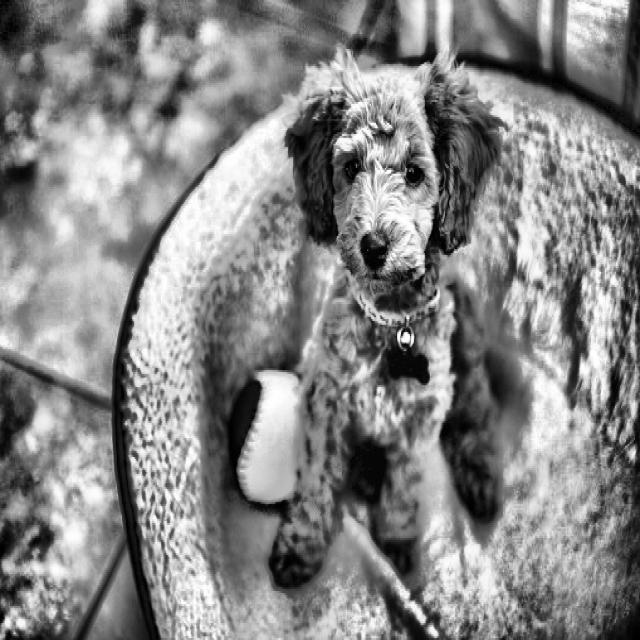poodle: (260, 17, 518, 347)
